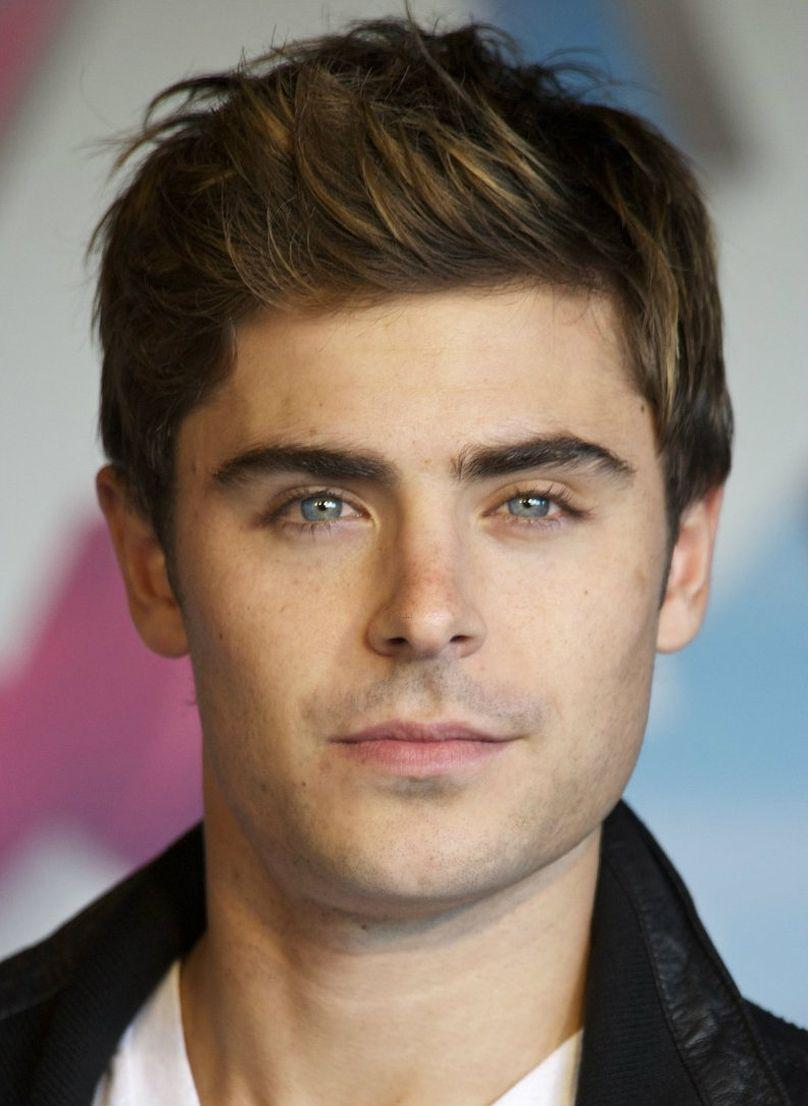Sober: (191, 291, 644, 823)
